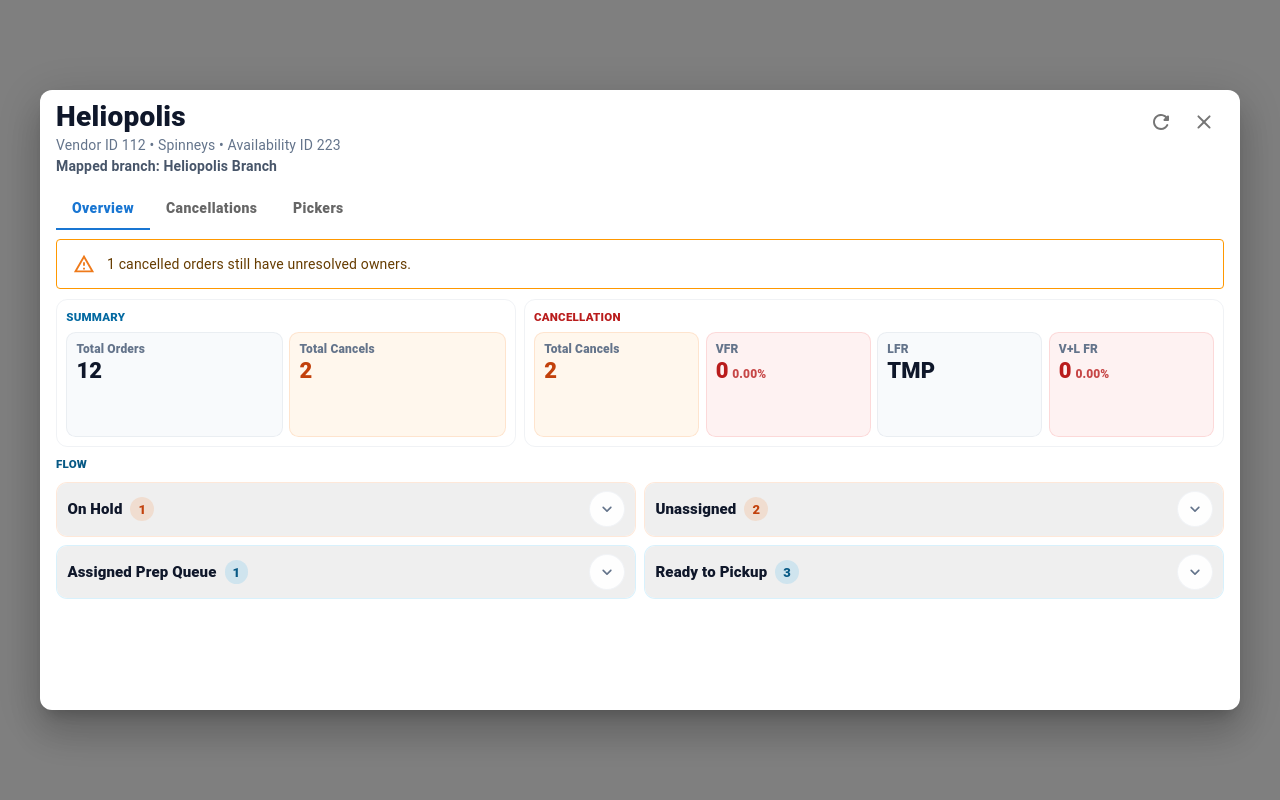
Scenario: PerformanceBranchDialog › updates pickup delta live while the dialog stays open
This screenshot has width=1280, height=800.
Click the button with aria-label "Toggle Ready to Pickup orders": (711, 572) [645,546,1223,598]
Wait 2000 ms
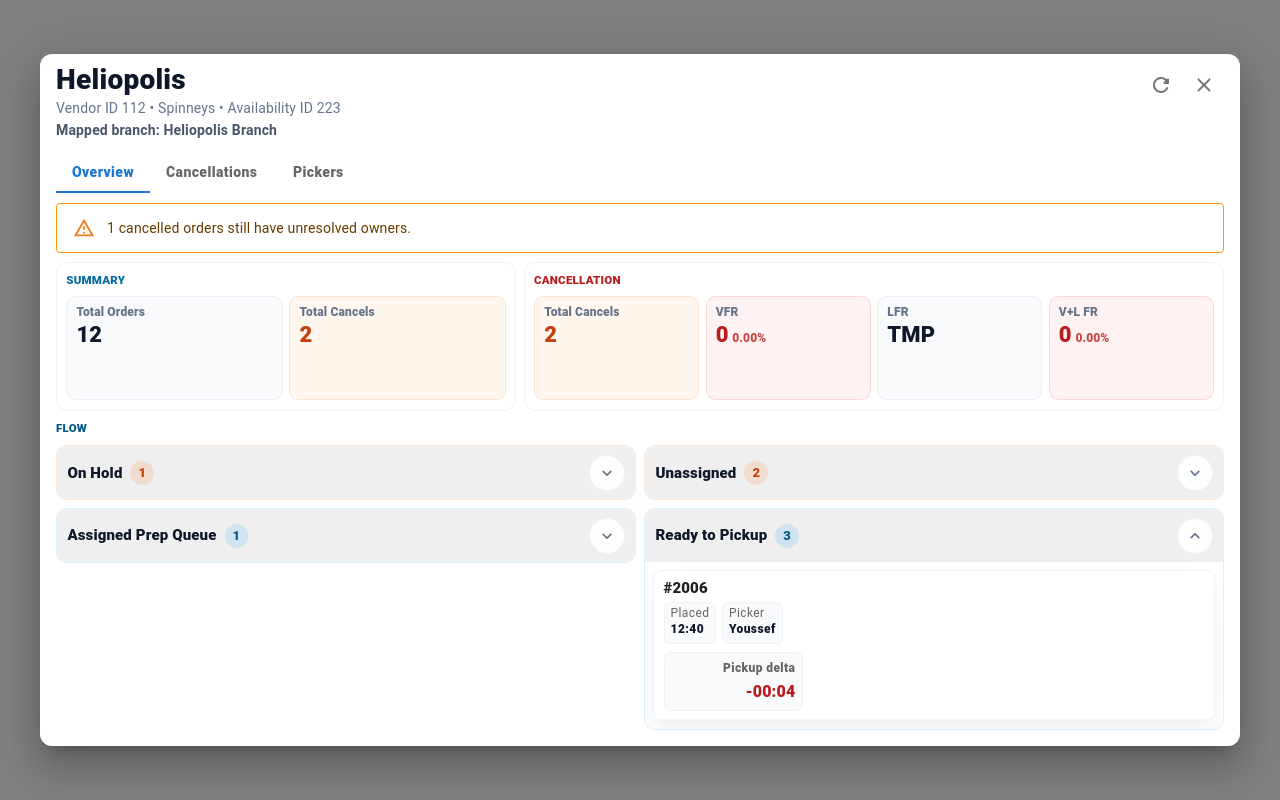
Result: the text "-00:04" is shown at [745,682,795,701]
